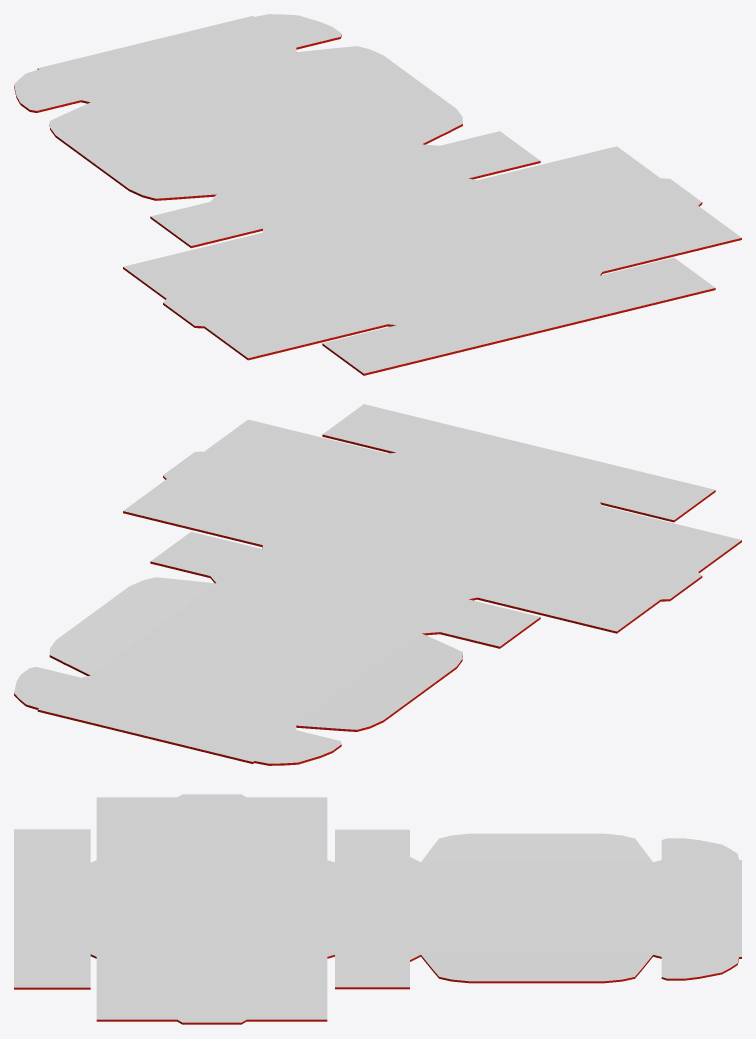
Rendered from PLANOS.gltf.
3 views of the same model, one above another, from view 1: azimuth 30°, elevation 25°; view 2: azimuth 150°, elevation 25°; view 3: azimuth 270°, elevation 25° (orthographic). The views are drawn at different scales.
Parts seen in each view (by area): view 1: Plane; view 2: Plane; view 3: Plane.
Part boxes in pixels (box(x1,y1,x2,y2)): Plane: box(14, 14, 741, 375); Plane: box(14, 404, 741, 765); Plane: box(14, 794, 741, 1024).
Size of the model in its own units: 5.04 by 0.031 by 6.79.
